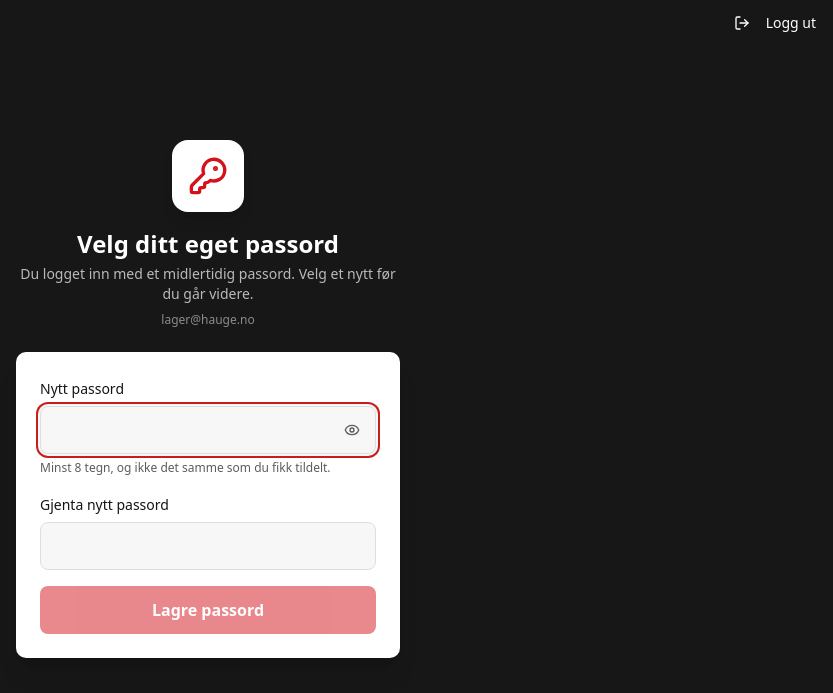
første innlogging › for kort blir stoppa
In the password field labelled "Nytt passord": (208, 430) [40, 406, 376, 454], type "kort"
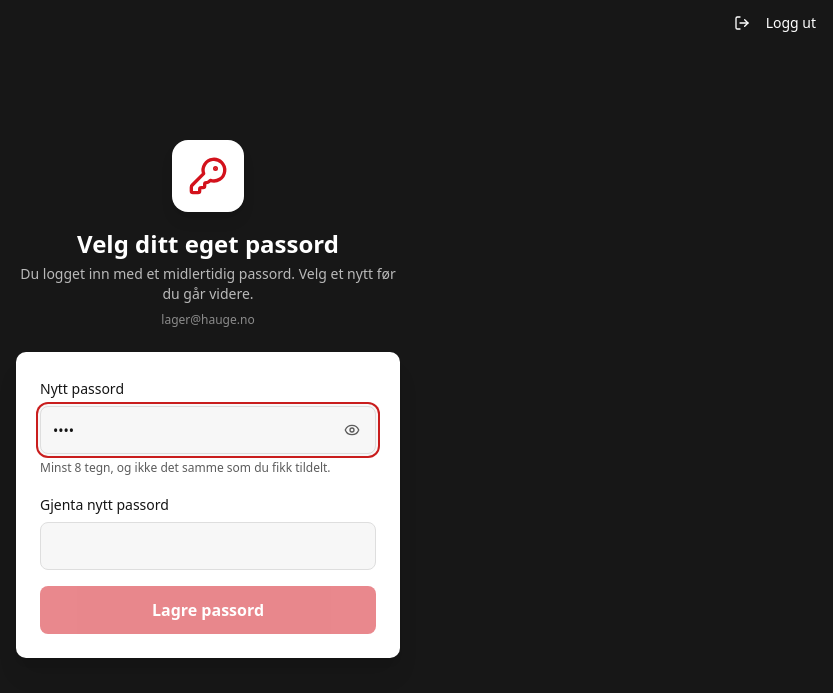
In the password field labelled "Gjenta nytt passord": (208, 546) [40, 522, 376, 570], type "kort"
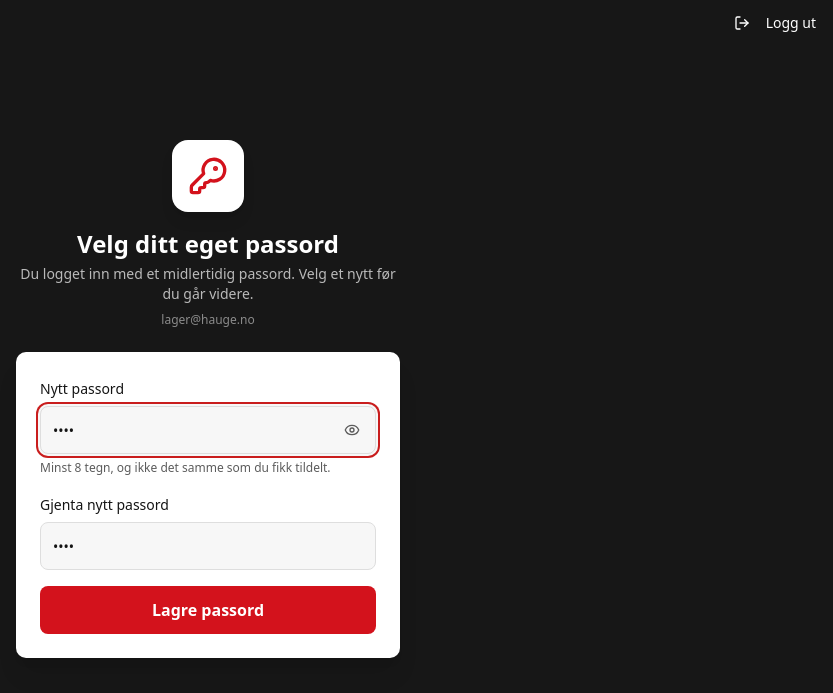
Click the button "Lagre passord": click(208, 610) [40, 586, 376, 634]
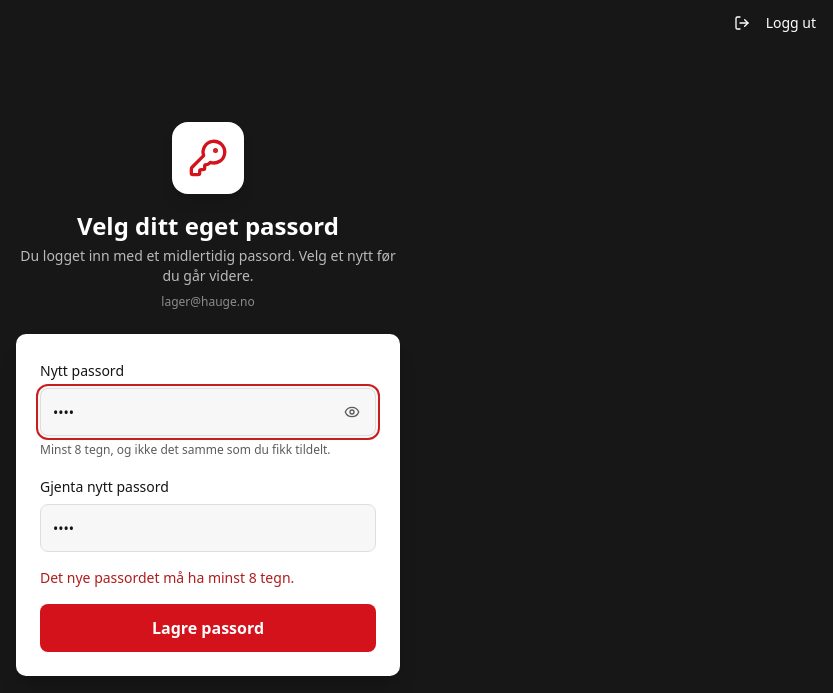
expect the message shows "minst 8": met, box [40, 568, 294, 587]
